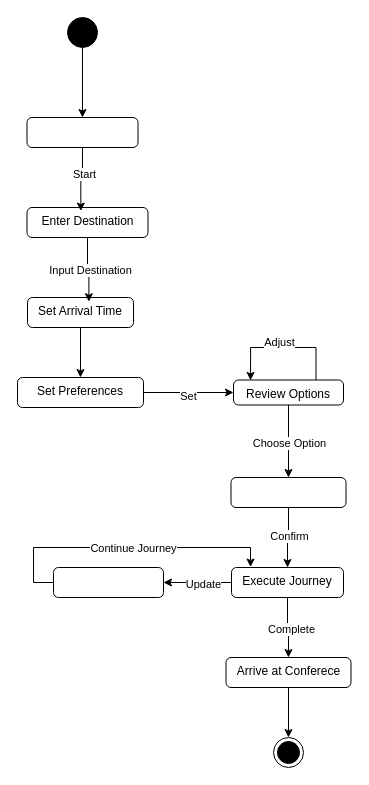
The diagram is 369 pixels wide and 785 high, and some of its shapes have lost their labels. The centre of each missing label's shape, as x and y in pixels:
App Launch: point (82, 132)
Handle Updates: point (108, 582)
Select Journey: point (288, 492)
